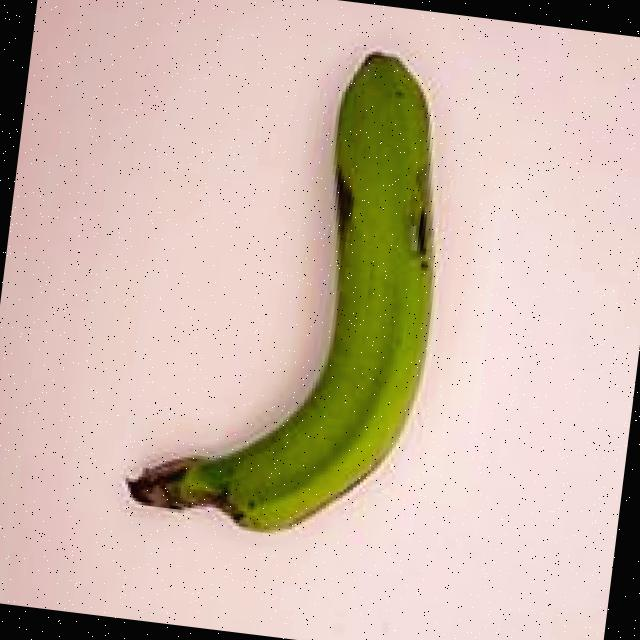Raw: (95, 0, 504, 613)
